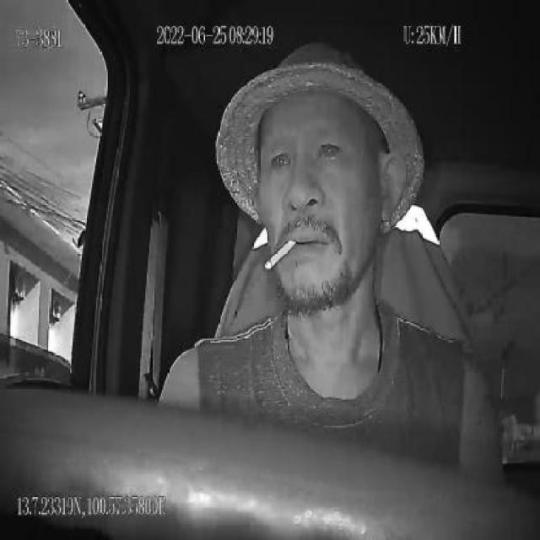smoking: (266, 238, 296, 272)
